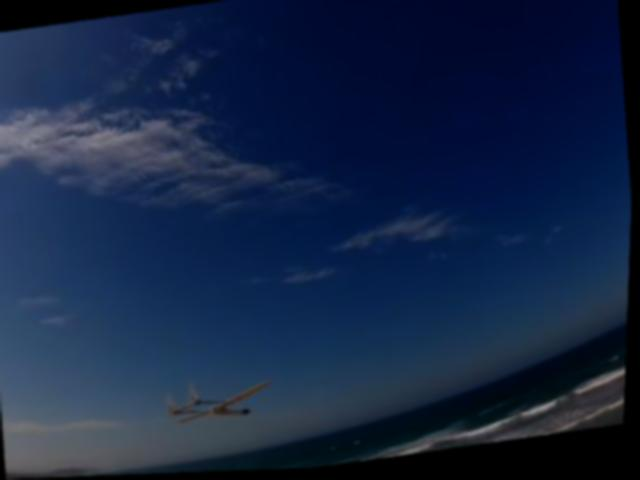uav: (156, 366, 285, 442)
